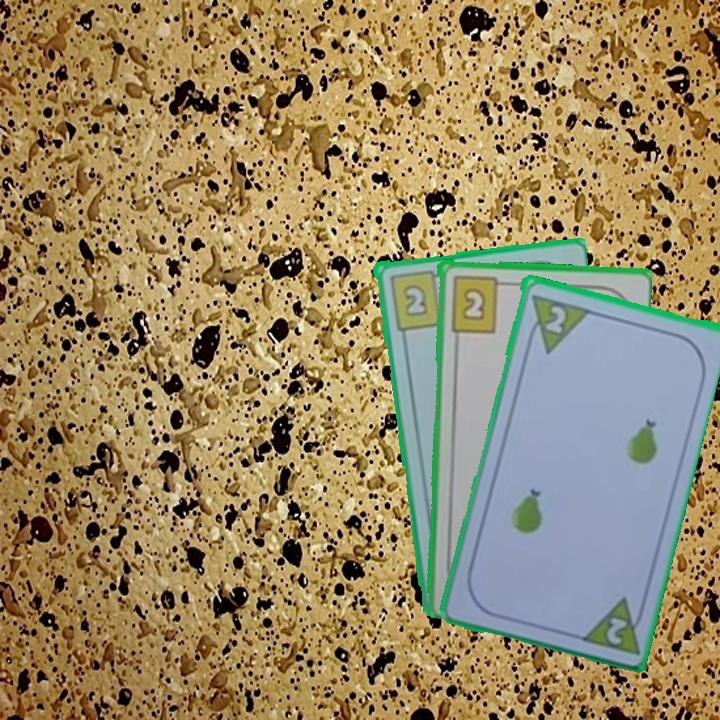2b: (385, 266, 447, 333), (447, 272, 510, 335)
2p: (575, 592, 649, 657), (522, 290, 590, 356)
